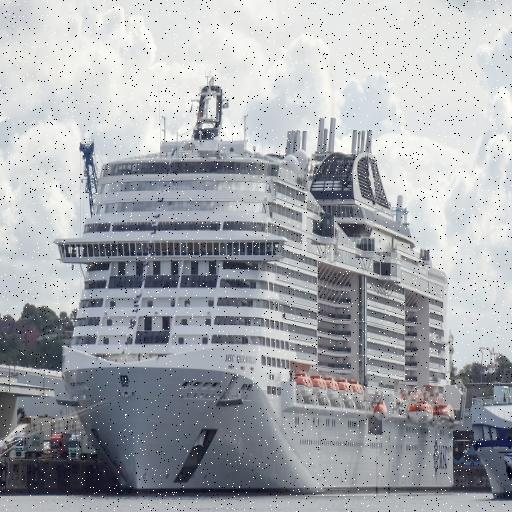cruises: (51, 77, 461, 502)
